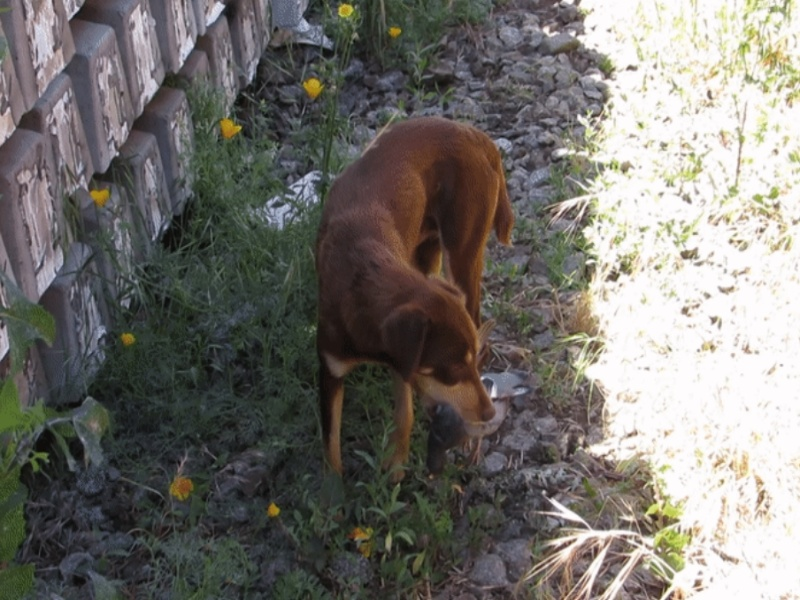dog: (310, 114, 508, 489)
